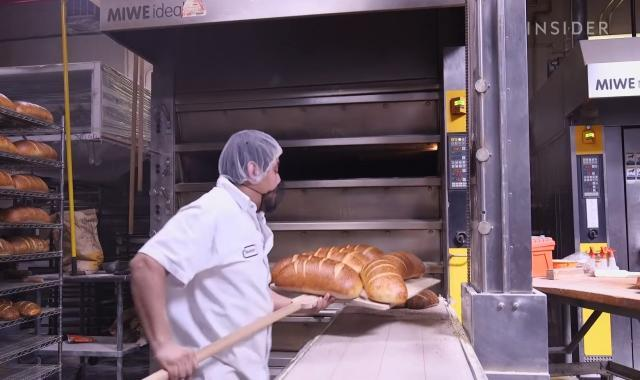Hairnet: (218, 129, 284, 183)
Mask: (238, 168, 286, 202)
No_Apron: (173, 199, 266, 380)
No_Glove: (292, 288, 335, 316)
